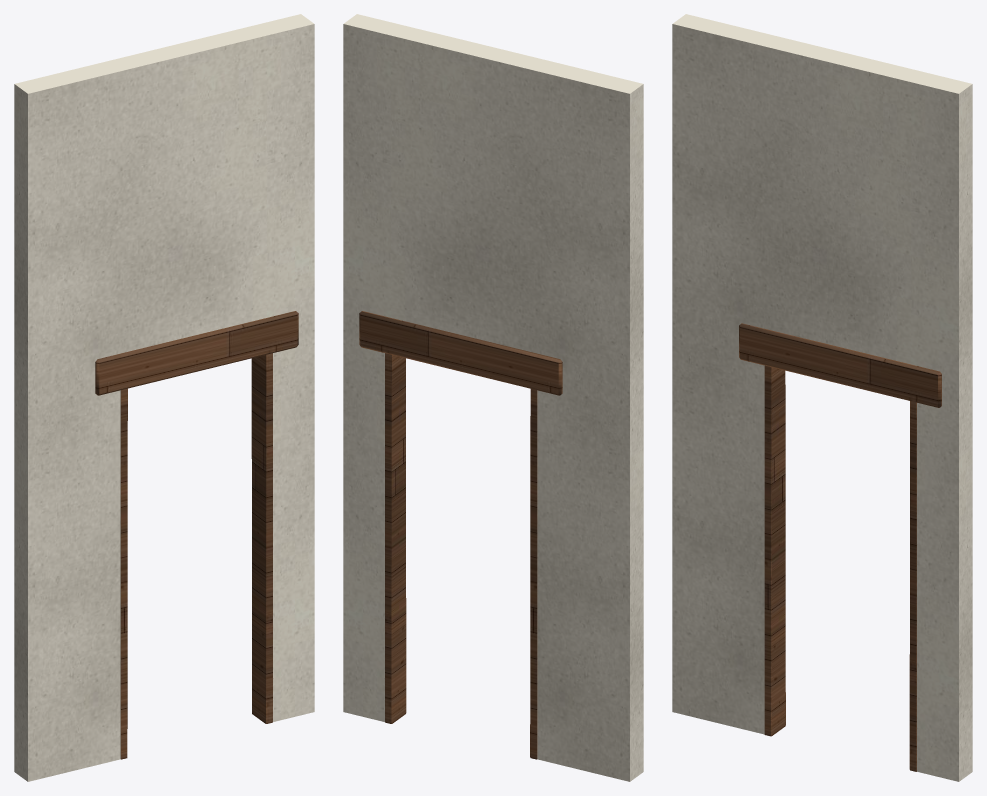
The model's file is interior_wall_end_doorway.glb.
3 views of the same model, side by side, from view 1: azimuth 30°, elevation 25°; view 2: azimuth 150°, elevation 25°; view 3: azimuth 330°, elevation 25° (orthographic).
Parts seen in each view (by area): view 1: interior_wall_end_doorway_plaster, interior_wall_end_doorway_wood; view 2: interior_wall_end_doorway_plaster, interior_wall_end_doorway_wood; view 3: interior_wall_end_doorway_plaster, interior_wall_end_doorway_wood.
Part boxes in pixels (x1,y1,x2,y2): interior_wall_end_doorway_plaster: (14, 14, 314, 781); interior_wall_end_doorway_wood: (95, 311, 298, 759); interior_wall_end_doorway_plaster: (343, 14, 643, 781); interior_wall_end_doorway_wood: (359, 311, 562, 759); interior_wall_end_doorway_plaster: (672, 14, 972, 781); interior_wall_end_doorway_wood: (739, 323, 941, 771).
Size of the model in its own units: 1.7 by 3.9 by 0.18.
2 materials, 2 textured.
